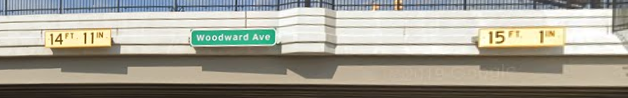1: (535, 27, 545, 46), (485, 29, 495, 45), (79, 30, 88, 47), (88, 30, 95, 47), (46, 31, 53, 46)
4: (52, 29, 64, 47)
5: (493, 29, 506, 44)
overheadsign: (474, 24, 567, 49), (44, 29, 112, 47)
